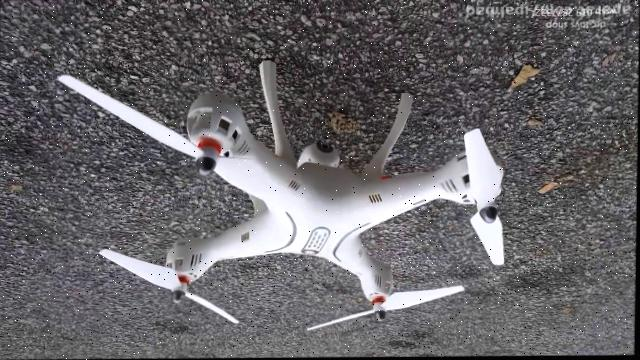drone: (47, 58, 517, 336)
